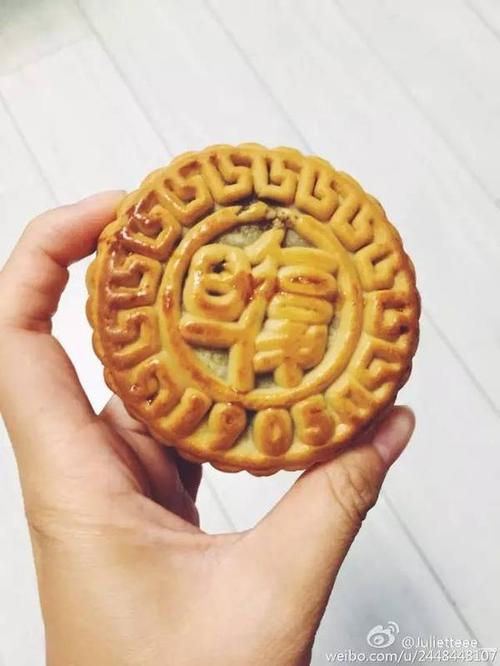MoonCake: (83, 142, 423, 478)
